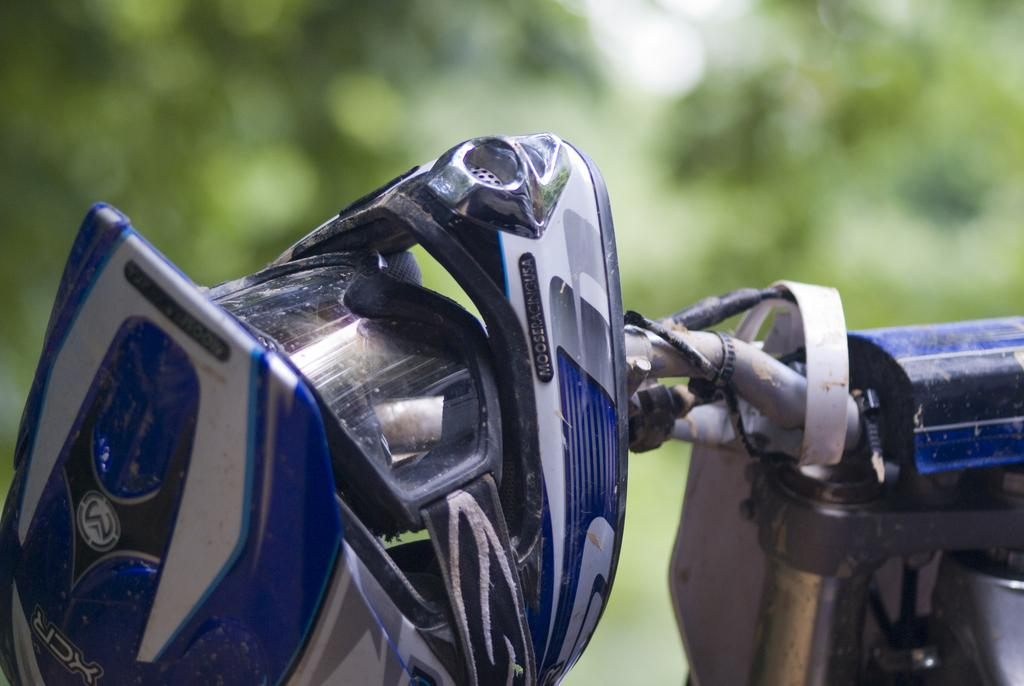helmet: (0, 132, 629, 686)
